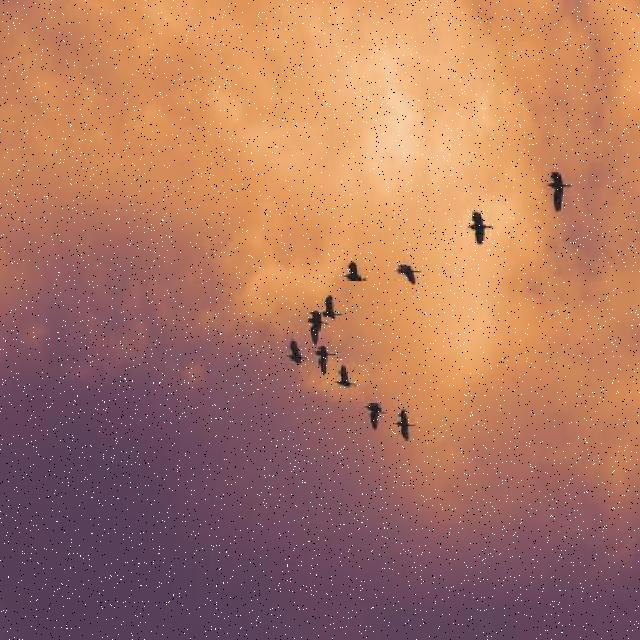bird: (547, 172, 573, 212), (304, 310, 330, 346), (467, 210, 493, 244), (312, 344, 336, 376), (394, 408, 416, 441), (364, 402, 386, 432), (320, 294, 343, 320), (394, 264, 420, 286), (286, 338, 308, 364), (343, 260, 368, 282), (335, 364, 357, 388)
